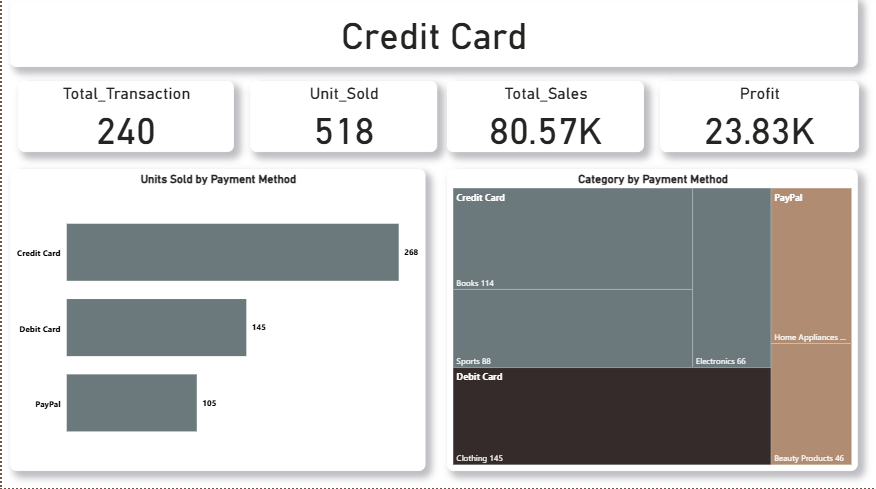

The dashboard page shown, as its layout file describes it:
{"tool":"powerbi","page":{"name":"Payment Method (Tooltip)","canvas":[1280,720],"ordinal":2},"visuals":[{"type":"card","title":"Unit_Sold","fields":{"Values":["Sum(Online Sales Data.Units Sold)"]},"box":[362.5,124.3,273.7,104.1],"z":0,"group":"g1"},{"type":"barChart","title":"Units Sold by Payment Method","fields":{"Category":["Online Sales Data.Payment Method"],"Y":["Sum(Online Sales Data.Units Sold)"]},"box":[11.8,253.6,608.1,441.8],"z":0},{"type":"card","title":"Total_Transaction","fields":{"Values":["Min(Online Sales Data.Payment Method)"]},"box":[11.8,0,1241.4,104.1],"z":1000},{"type":"card","title":"Total_Sales","fields":{"Values":["Sum(Online Sales Data.Total Revenue)"]},"box":[650.9,124.3,288.5,104.1],"z":1000,"group":"g1"},{"type":"card","title":"Total_Transaction","fields":{"Values":["CountNonNull(Online Sales Data.Transaction ID)"]},"box":[23.5,124.3,315.8,104.1],"z":2000,"group":"g1"},{"type":"treemap","title":"Category by Payment Method","fields":{"Group":["Online Sales Data.Payment Method"],"Details":["Online Sales Data.Product Category"],"Values":["Sum(Online Sales Data.Units Sold)"]},"box":[651.8,253.6,601.4,441.8],"z":2000},{"type":"card","title":"Profit","fields":{"Values":["Sum(Online Sales Data.Profit)"]},"box":[962.5,124.3,290.6,104.1],"z":3000,"group":"g1"},{"type":"group","id":"g1","title":"Group 1","box":[23.5,124.3,1229.6,104.1],"z":3000}]}

Visuals, with their boxes in screenshot pixels (x1, y1, x2, y2), scaled from the page's 1280x720 canvas onto the 876x489 screenshot:
"Unit_Sold" card: left=248, top=84, right=435, bottom=155
"Units Sold by Payment Method" barChart: left=8, top=172, right=424, bottom=472
"Total_Transaction" card: left=8, top=0, right=858, bottom=71
"Total_Sales" card: left=445, top=84, right=643, bottom=155
"Total_Transaction" card: left=16, top=84, right=232, bottom=155
"Category by Payment Method" treemap: left=446, top=172, right=858, bottom=472
"Profit" card: left=659, top=84, right=858, bottom=155
"Group 1" group: left=16, top=84, right=858, bottom=155
